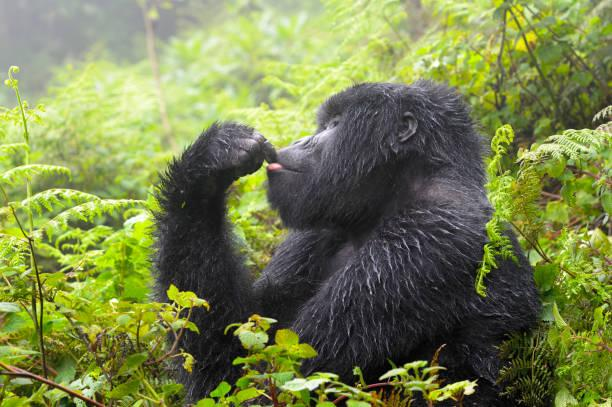goriile_montagne: (156, 57, 565, 394)
